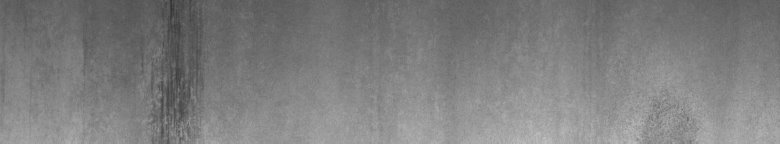ka: (144, 4, 204, 136)
